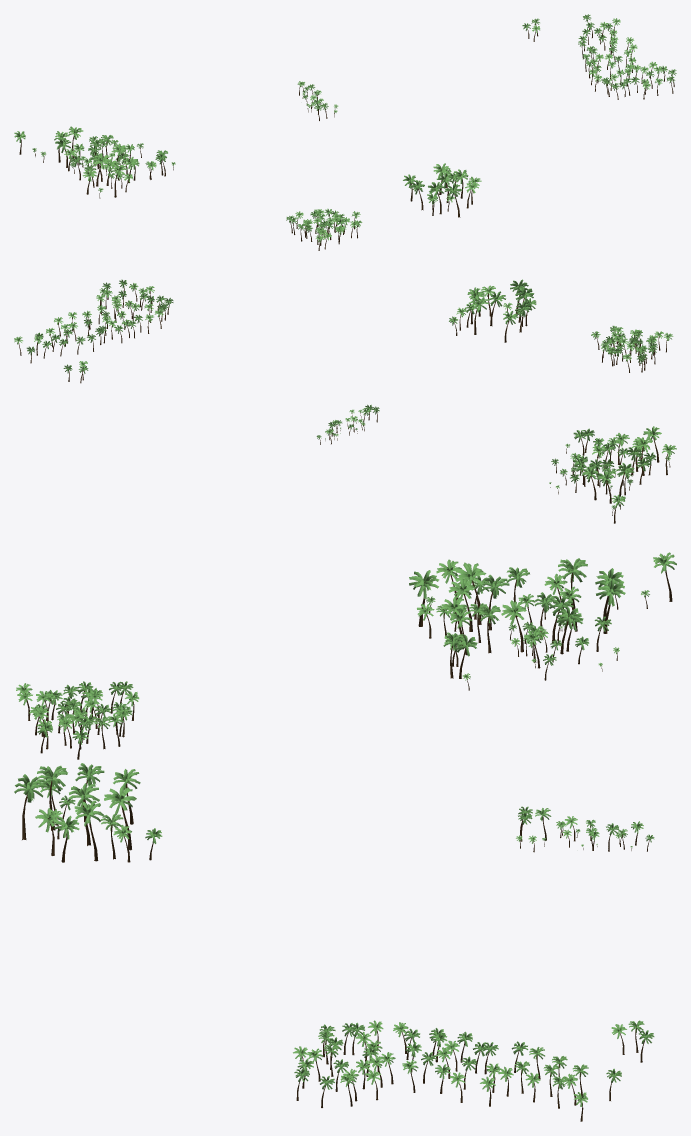
File: event3_char2_v0_part8.glb
3 views of the same model, one above another, from view 1: azimuth 30°, elevation 25°; view 2: azimuth 150°, elevation 25°; view 3: azimuth 270°, elevation 25° (orthographic). The views are drawn at different scales.
Size of the model in its own units: 631 by 35.81 by 335.
Materials: 1 (1 with a texture image).
